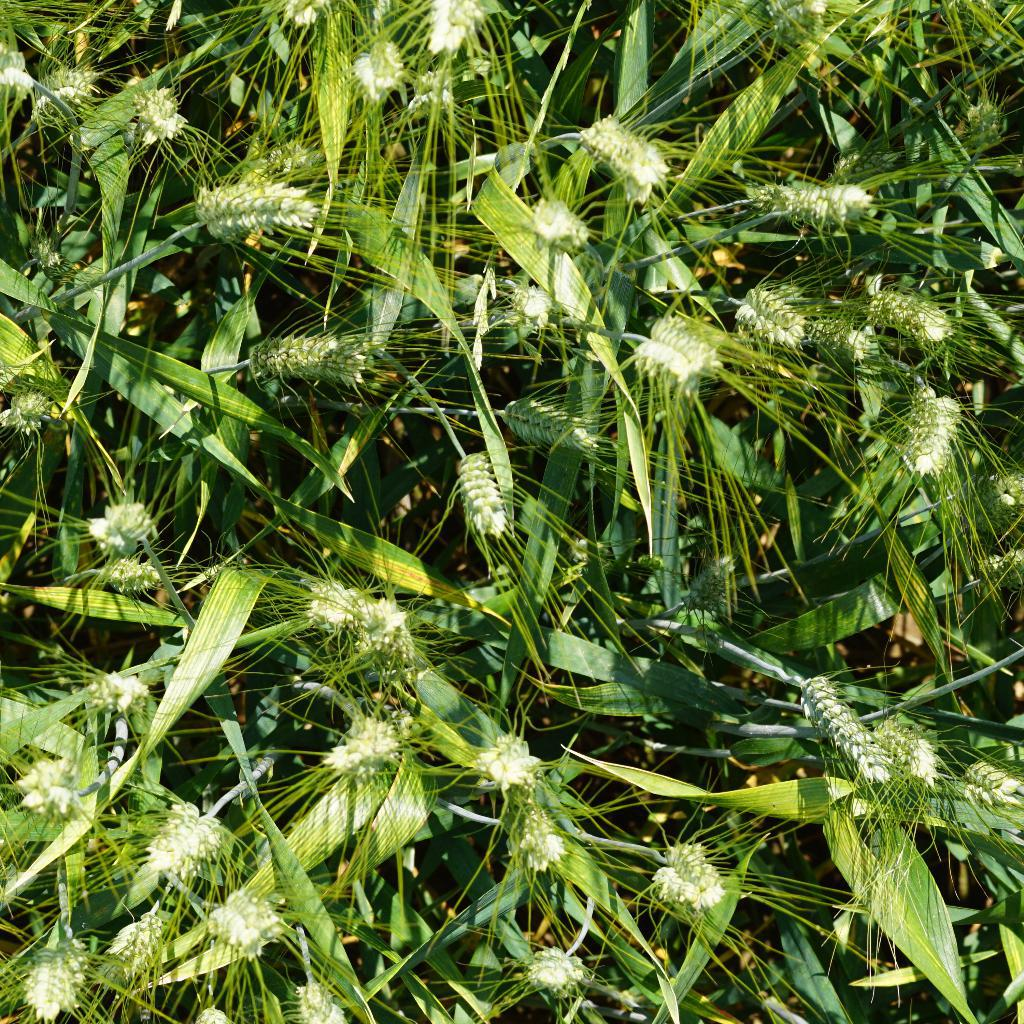0-0: (183, 145, 333, 246), (799, 662, 894, 780), (744, 156, 878, 228), (612, 303, 721, 391), (243, 313, 369, 385), (571, 115, 673, 201), (892, 378, 972, 485), (144, 789, 242, 875), (860, 280, 968, 354), (19, 907, 89, 1020), (104, 896, 180, 991), (631, 838, 727, 911), (331, 12, 404, 107), (108, 78, 195, 150), (866, 703, 941, 785), (204, 882, 280, 961), (507, 388, 591, 459), (946, 462, 1024, 537), (333, 710, 411, 781), (479, 720, 549, 799), (736, 286, 817, 354), (86, 542, 167, 606), (522, 185, 598, 253), (73, 654, 153, 717), (516, 930, 594, 991), (458, 444, 505, 544), (964, 750, 1023, 826), (948, 93, 1017, 157), (284, 967, 361, 1024), (86, 488, 154, 552), (18, 751, 81, 818), (497, 258, 556, 329), (391, 60, 460, 120), (507, 800, 565, 871), (15, 220, 77, 283), (683, 557, 742, 623), (758, 0, 864, 36), (428, 0, 493, 58), (811, 311, 877, 366), (305, 574, 359, 641), (963, 547, 1024, 599), (0, 25, 37, 103), (357, 598, 413, 649), (43, 56, 93, 111), (0, 380, 45, 438)
